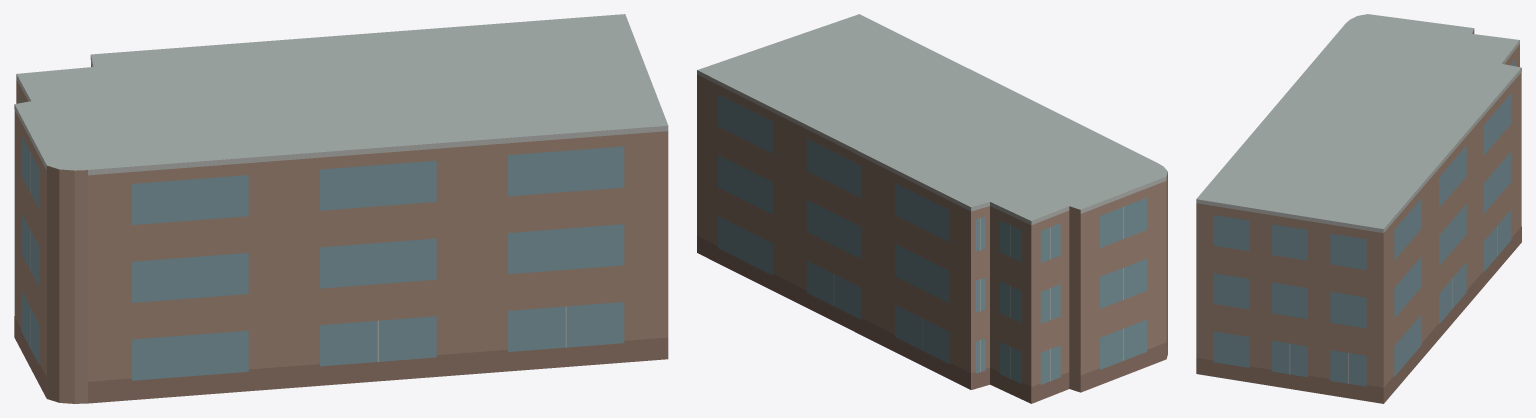
File: survey-upis-32952455.glb
3 views of the same model, side by side, from view 1: azimuth 30°, elevation 25°; view 2: azimuth 150°, elevation 25°; view 3: azimuth 270°, elevation 25° (orthographic). The views are drawn at different scales.
Parts seen in each view (by area): view 1: survey-upis-32952455.tmp; view 2: survey-upis-32952455.tmp; view 3: survey-upis-32952455.tmp.
Part boxes in pixels (x1,y1,x2,y2): survey-upis-32952455.tmp: [14, 14, 668, 403]; survey-upis-32952455.tmp: [697, 14, 1167, 403]; survey-upis-32952455.tmp: [1196, 14, 1521, 403].
Bounding box in the file's own units: 28.27 × 10.7 × 18.08.
